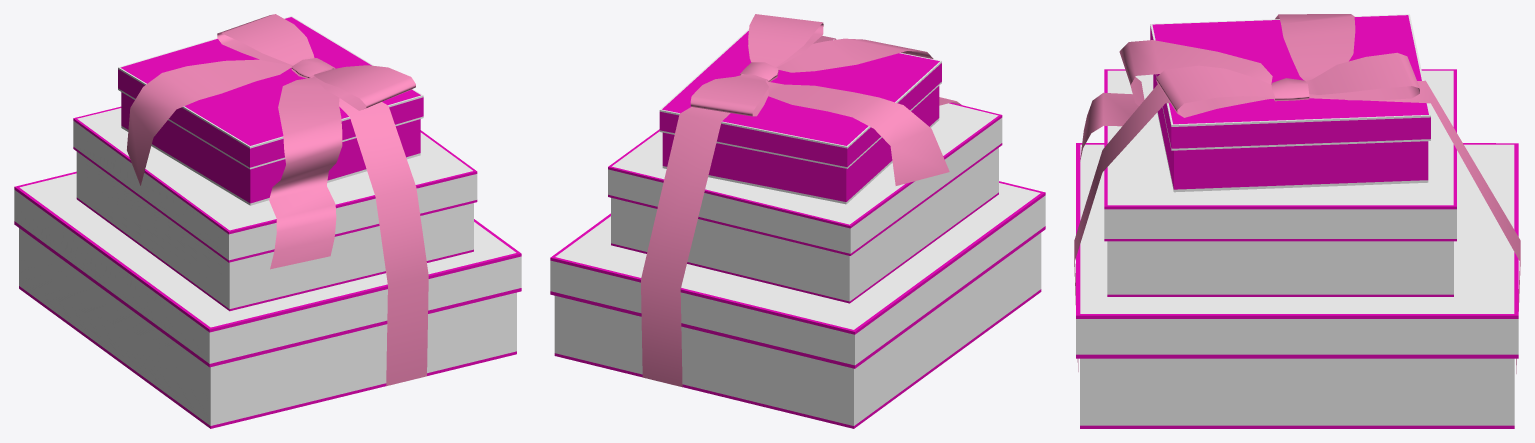
3 renders of one model, left to right at view 1: azimuth 30°, elevation 25°; view 2: azimuth 150°, elevation 25°; view 3: azimuth 270°, elevation 25°, orthographic. The views are drawn at different scales.
Visible parts, largest first — view 1: gift; view 2: gift; view 3: gift.
Boxes of the visible parts, bbox=[...] form: gift: bbox=[14, 14, 521, 428]; gift: bbox=[550, 14, 1045, 428]; gift: bbox=[1074, 14, 1520, 428].
Size of the model in its own units: 16.89 by 13.4 by 18.46.
